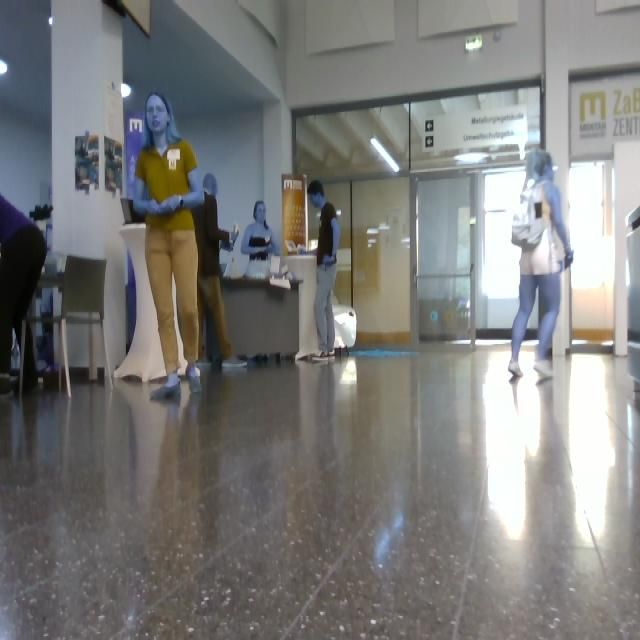desk: (22, 256, 114, 399), (222, 278, 298, 357)
door: (292, 77, 544, 354), (523, 288, 545, 349)
light bulb: (371, 137, 400, 172), (122, 84, 132, 98), (1, 60, 8, 76)
person: (134, 94, 204, 398), (509, 150, 573, 378), (193, 174, 239, 368), (1, 196, 47, 374), (309, 181, 340, 358), (242, 201, 281, 280), (26, 332, 37, 389), (248, 354, 269, 362)
pillar: (52, 1, 127, 374), (544, 1, 569, 234), (554, 269, 570, 357), (69, 325, 102, 366)
staircase: (627, 206, 640, 413)
table: (115, 225, 166, 382), (286, 256, 318, 358), (173, 286, 187, 374)
tiled floor: (1, 348, 640, 640)
